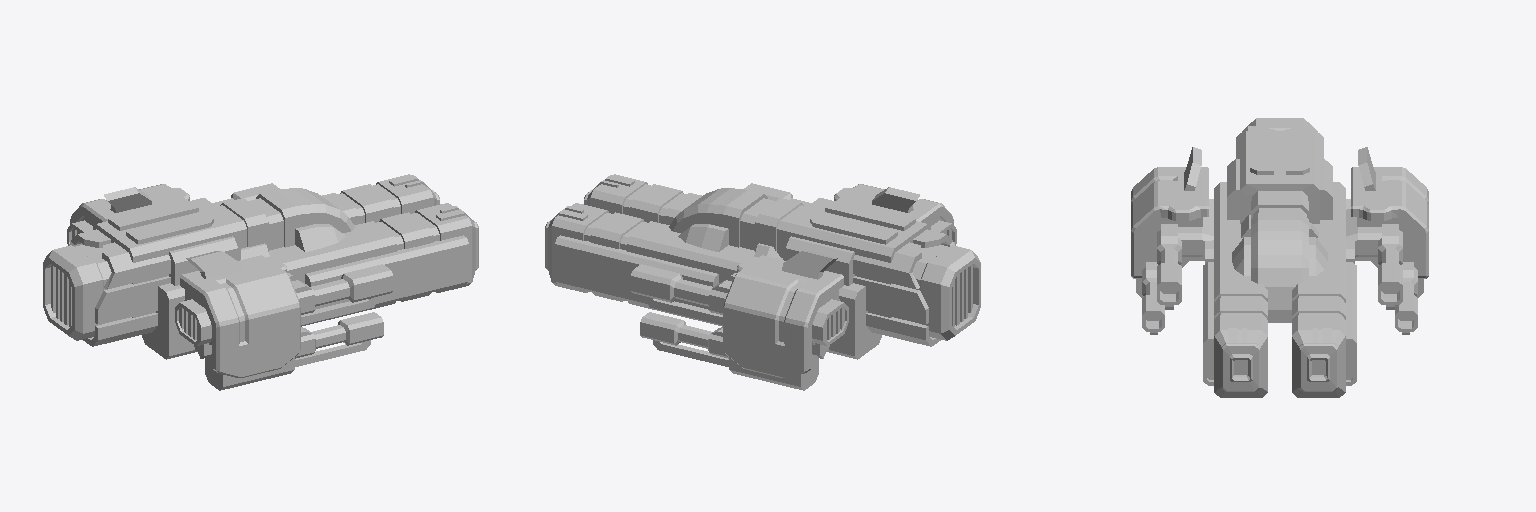
File: fighter.obj
3 renders of one model, left to right at view 1: azimuth 30°, elevation 25°; view 2: azimuth 150°, elevation 25°; view 3: azimuth 270°, elevation 25°, orthographic.
Parts seen in each view (by area): view 1: fighter; view 2: fighter; view 3: fighter.
Part boxes in pixels (left/top/right/bottom): fighter: left=43, top=174, right=478, bottom=390; fighter: left=545, top=174, right=980, bottom=390; fighter: left=1131, top=118, right=1428, bottom=397.
Size of the model in its own units: 1165 by 333 by 761.